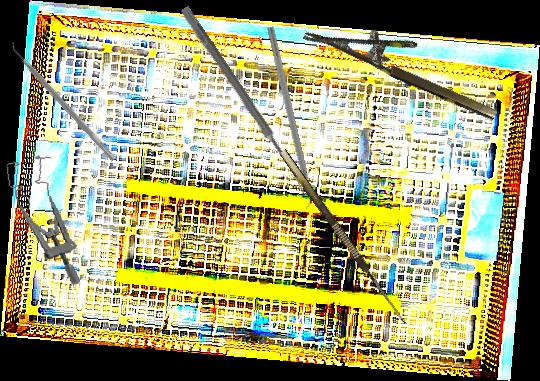Chopper: (256, 25, 318, 218)
Hook Surgical: (279, 142, 417, 327)
Needle Holder: (302, 0, 510, 123)
Spatula Surgical: (5, 39, 122, 162)
Speculum: (4, 150, 83, 294)
Surgical Spoon: (178, 5, 314, 198)
